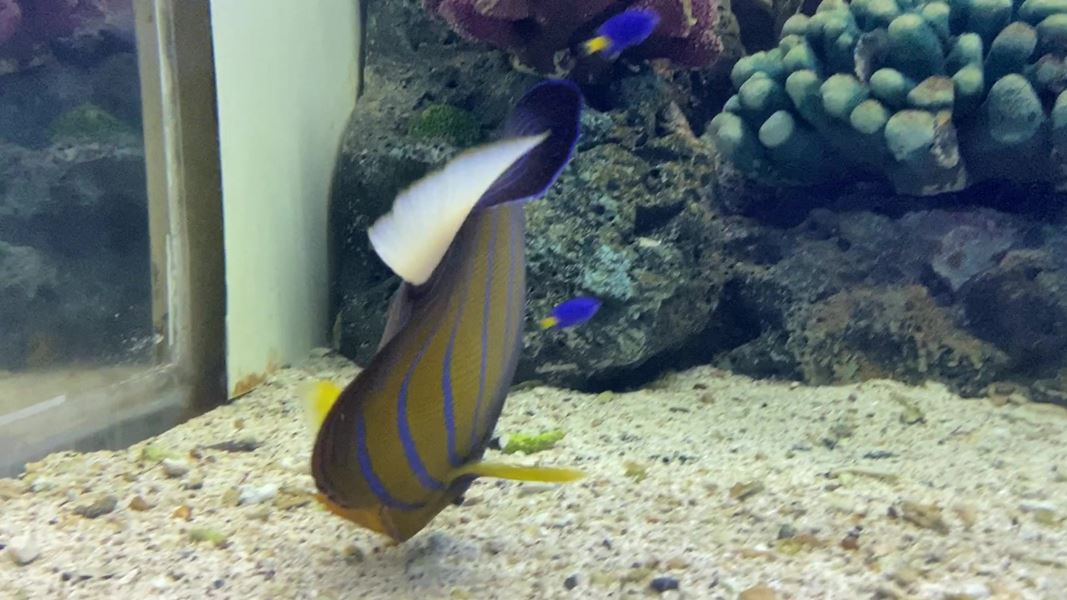Blue ring angelfish: (248, 75, 624, 565)
